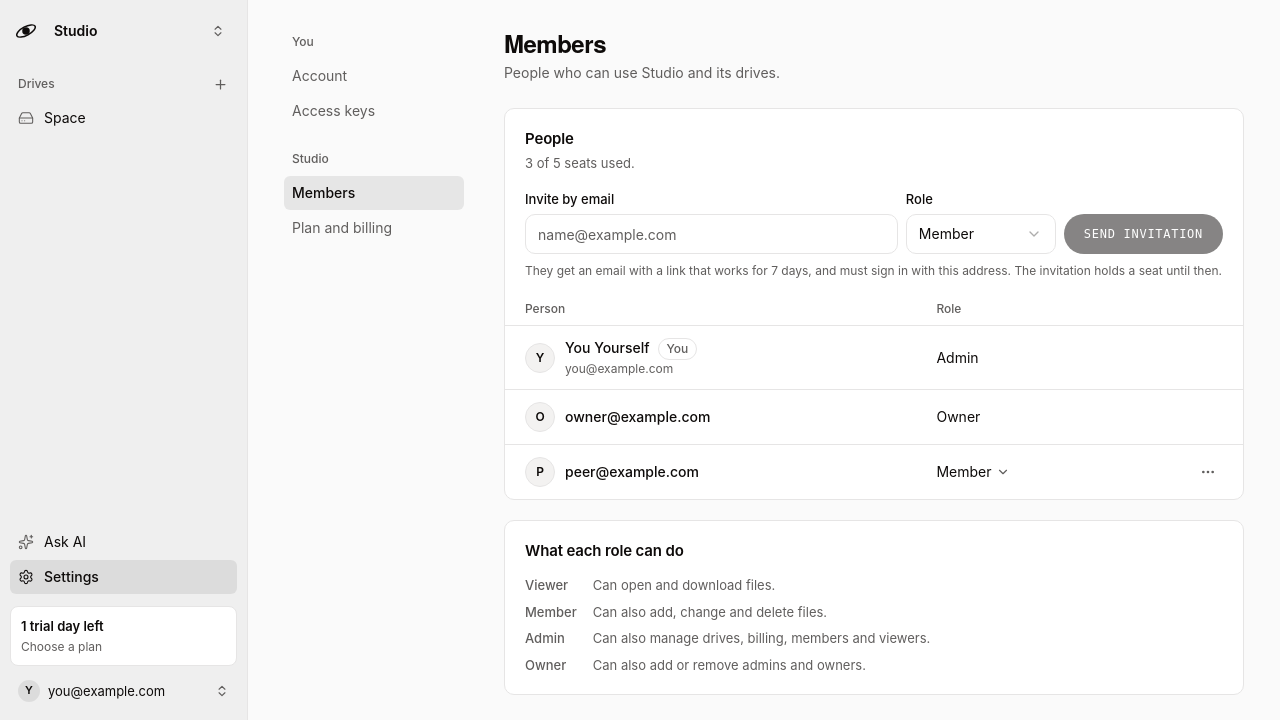
Test: lets admins manage members and viewers only
This screenshot has width=1280, height=720.
Expected: the text "owner@example.com" is shown, [565,407,710,427]
Step 1. Click the button with aria-label "Role for peer@example.com: Member" → point(972, 472), box [928,458,1016,486]
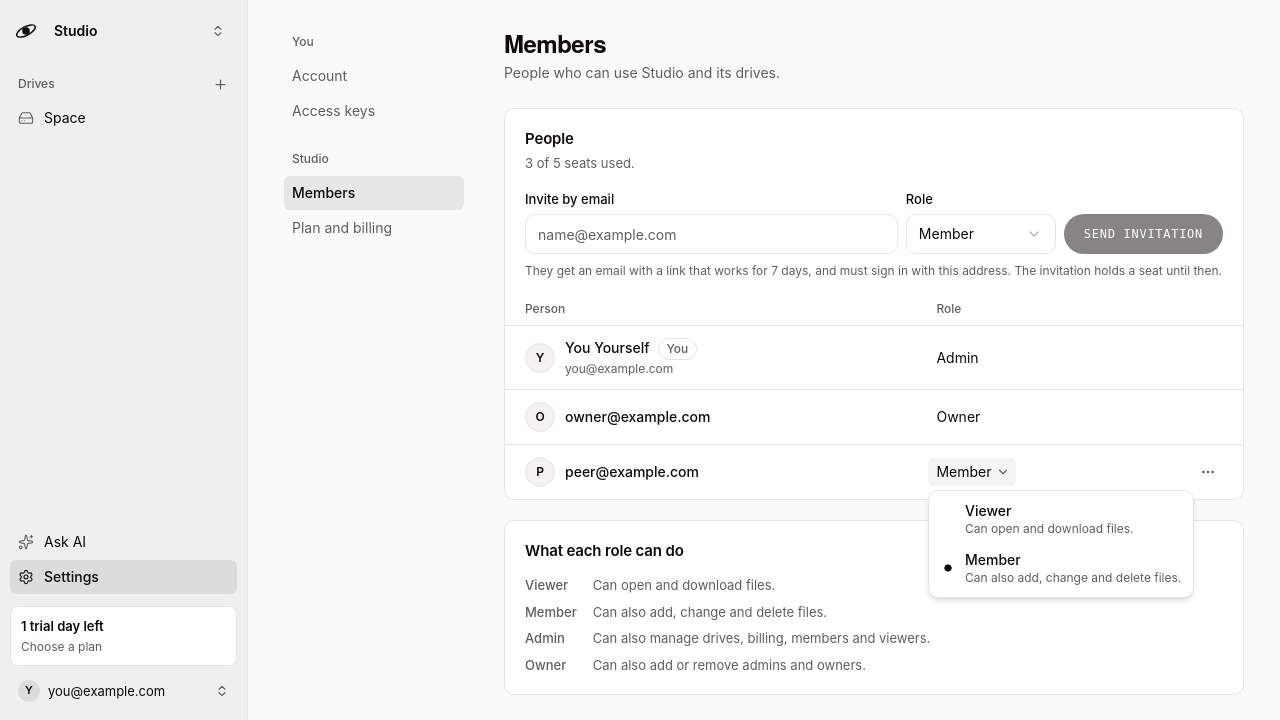
Expected: the number of menu items is 2, [965,502,1134,536]; [933,544,1189,593]
